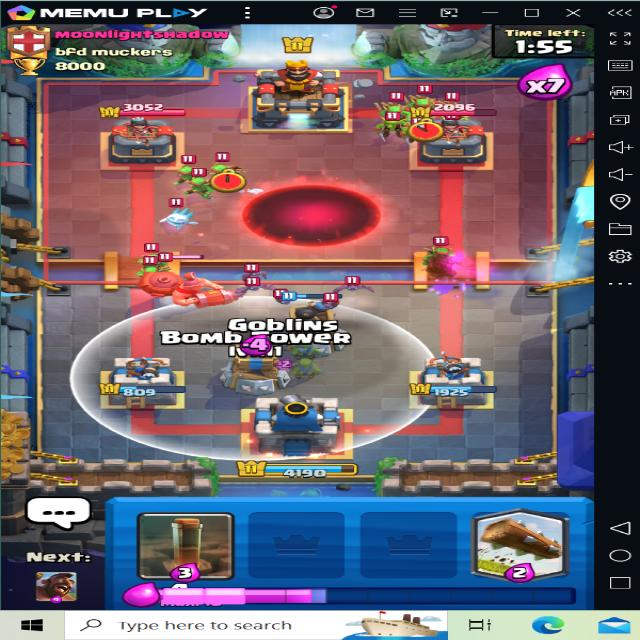bats: (337, 278, 389, 298), (242, 277, 276, 296), (240, 260, 271, 280), (321, 294, 347, 310)
goblin: (370, 115, 412, 143)
ice-spirit: (157, 202, 195, 232)
mighty-miner: (146, 250, 232, 322)
spear-goblin: (427, 238, 465, 270), (208, 156, 240, 187), (167, 160, 199, 186), (408, 90, 440, 110)
void: (232, 168, 395, 254)
